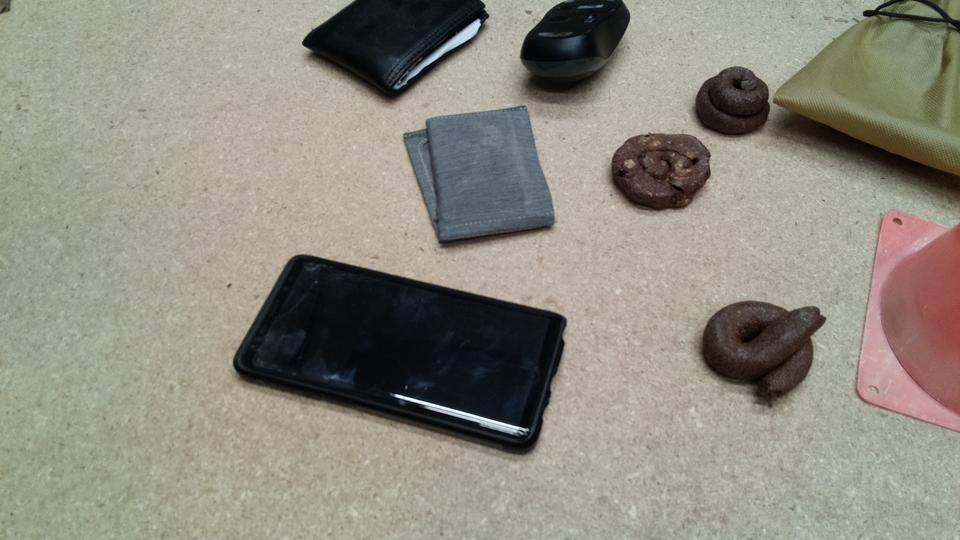poop: (700, 299, 828, 403), (609, 131, 714, 212), (694, 62, 774, 138)
